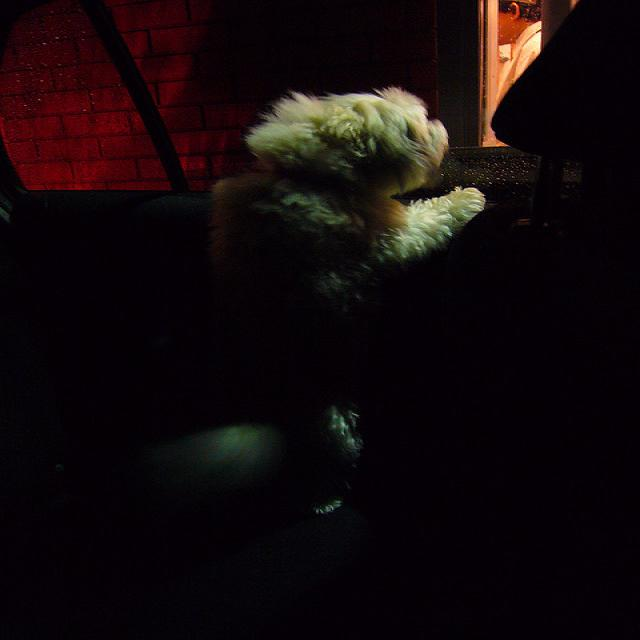Dog: (134, 84, 494, 512)
